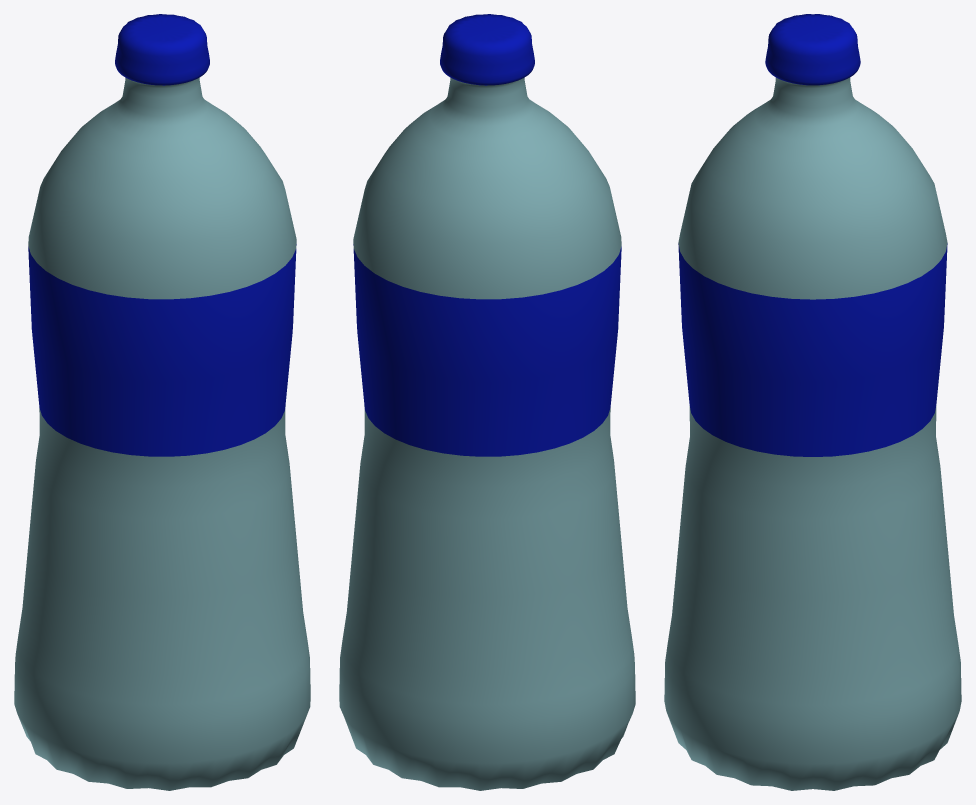
Rendered from Water bottle V2.fbx.
The picture shows the model from 3 angles, left to right: view 1: azimuth 30°, elevation 25°; view 2: azimuth 150°, elevation 25°; view 3: azimuth 270°, elevation 25°; orthographic projection.
Visible parts, largest first — view 1: pCylinder11; view 2: pCylinder11; view 3: pCylinder11.
Part boxes in pixels (x1,y1,x2,y2): pCylinder11: (14,14,310,790); pCylinder11: (339,14,635,790); pCylinder11: (664,14,961,790).
Bounding box in the file's own units: 22.8 × 59.66 × 22.8.
